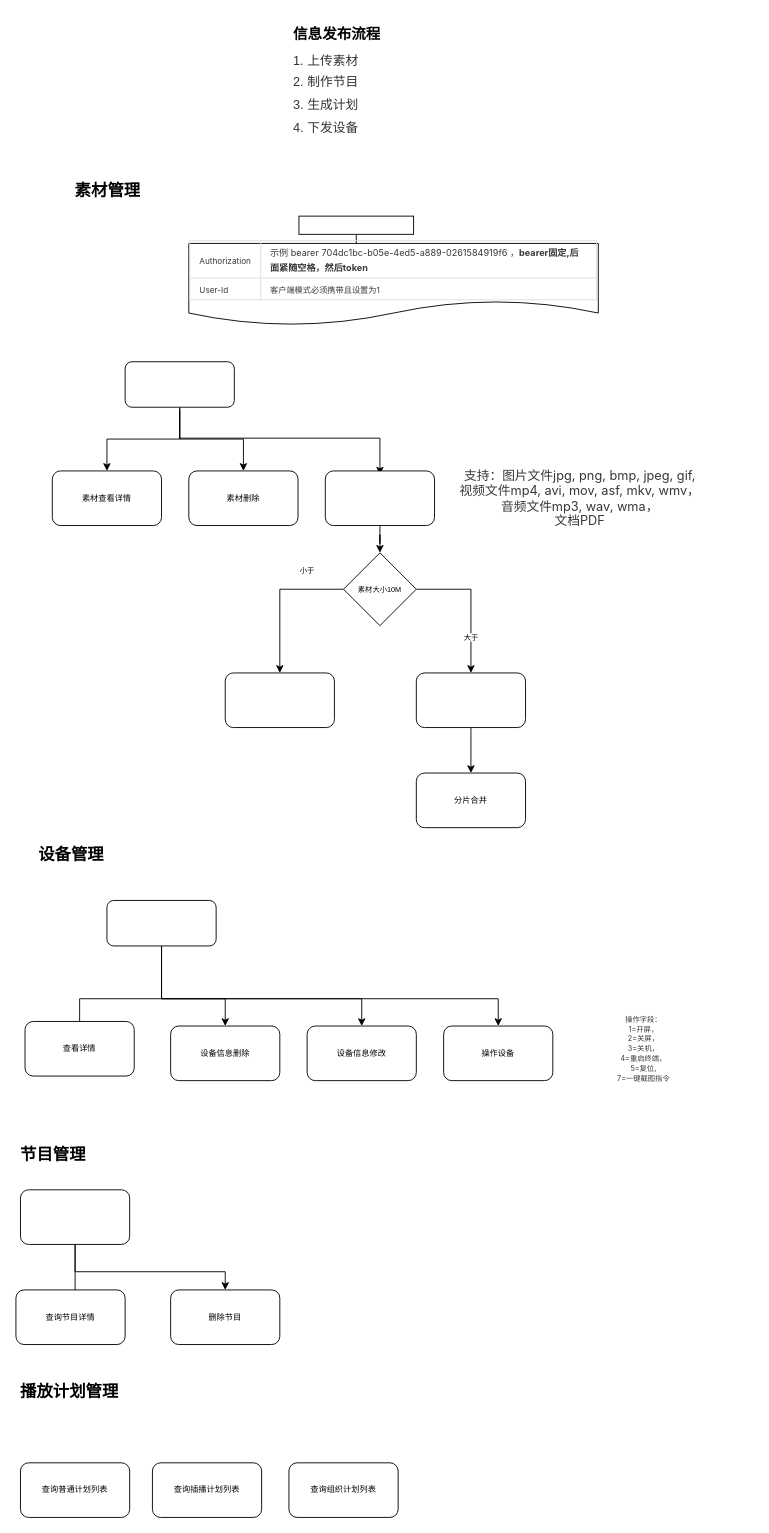
Some shapes in this 769 by 1533 pixel diagram are drawn without their labels. The shapes that lost their labels are listed below. From the top down, each one's centre as x and y in pixels, then its label:
(x=356, y=224): 携带请求头
(x=179, y=384): 查询素材列表
(x=379, y=498): 素材上传
(x=279, y=700): 普通上传
(x=470, y=700): 分片上传
(x=161, y=923): 查询设备列表
(x=75, y=1216): 查询节目列表
